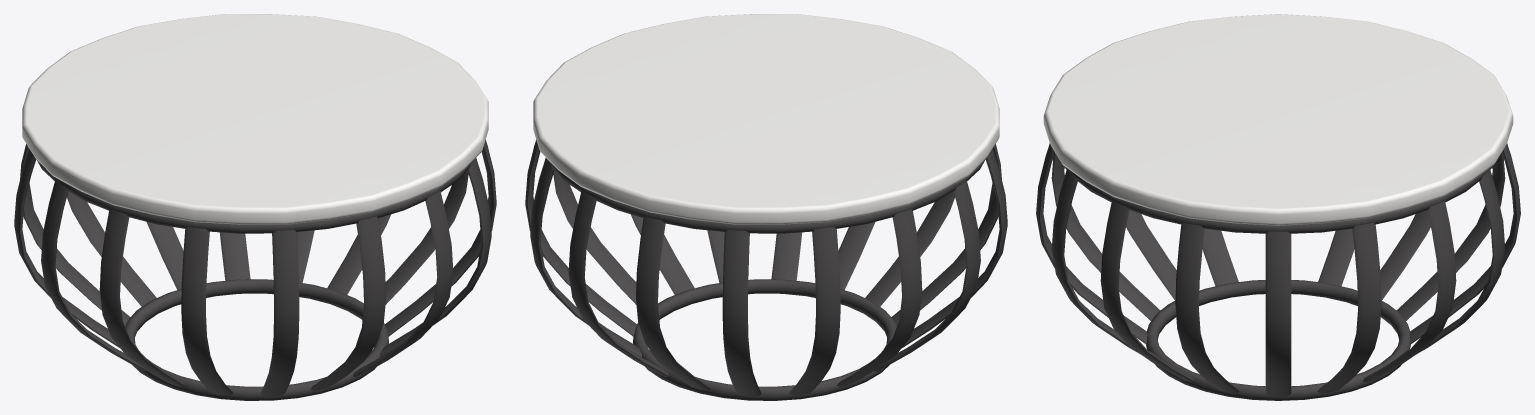
Rendered from Table_6.glb.
3 renders of one model, left to right at view 1: azimuth 30°, elevation 25°; view 2: azimuth 150°, elevation 25°; view 3: azimuth 270°, elevation 25°, orthographic.
Parts seen in each view (by area): view 1: Table_6; view 2: Table_6; view 3: Table_6.
Part boxes in pixels (x1,y1,x2,y2): Table_6: (14, 14, 496, 400); Table_6: (525, 14, 1007, 400); Table_6: (1036, 14, 1520, 400).
Bounding box in the file's own units: 0.8821 × 0.4727 × 0.8821.
2 materials, 2 textured.
